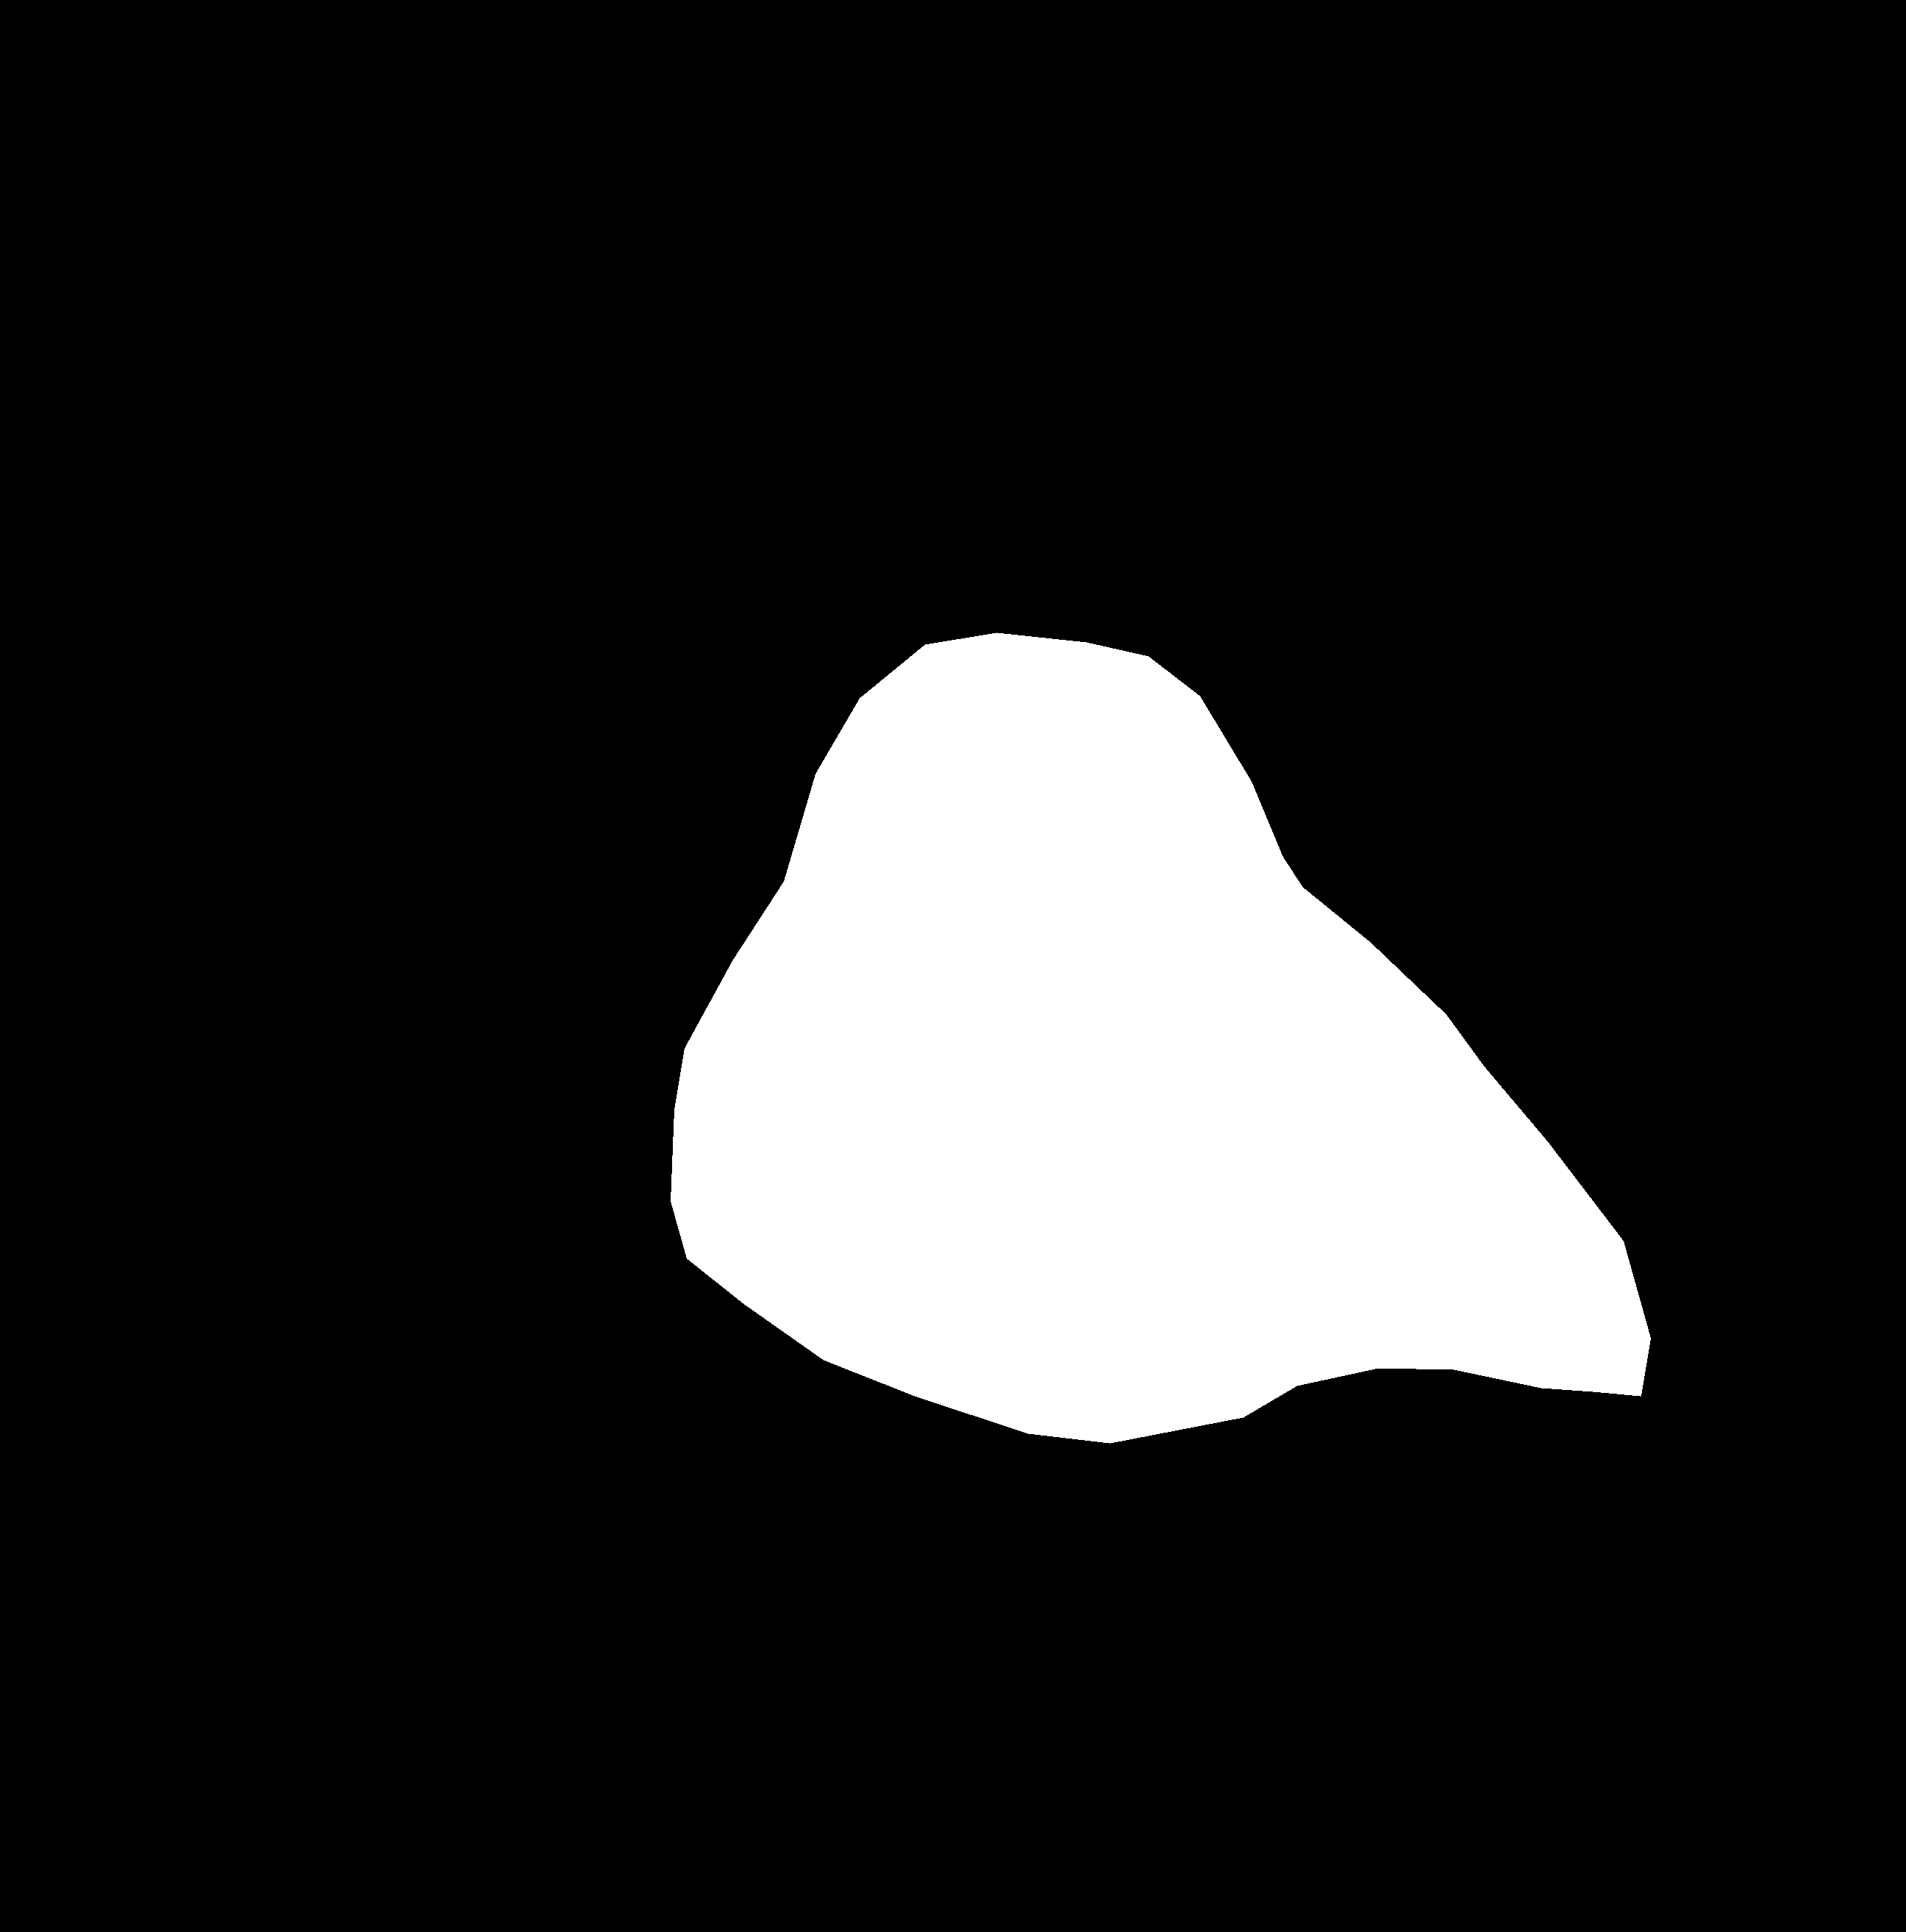heart: (670, 632, 1649, 1443)
left_lung: (120, 89, 915, 1489)
right_lung: (1135, 103, 1786, 1578)
